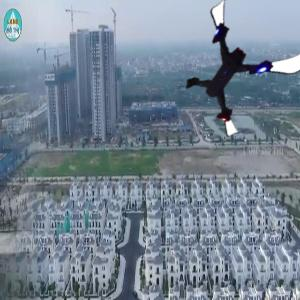drone: (174, 1, 297, 124)
